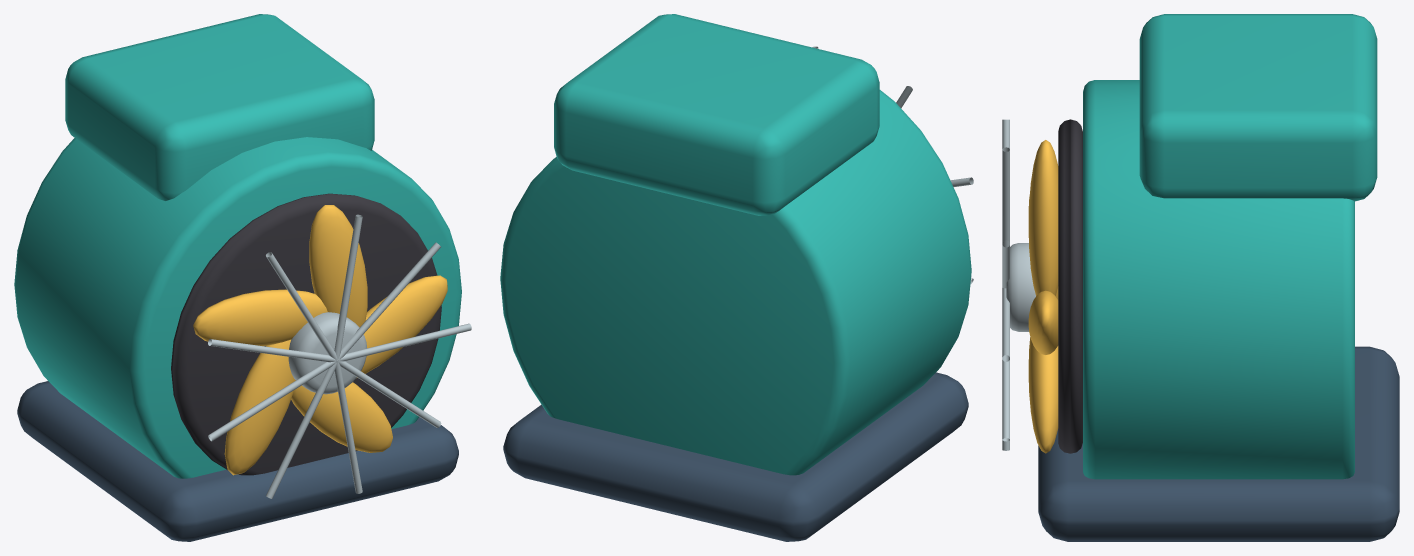
Rendered from fan.glb.
The picture shows the model from 3 angles, left to right: view 1: azimuth 30°, elevation 25°; view 2: azimuth 150°, elevation 25°; view 3: azimuth 270°, elevation 25°; orthographic projection. The views are drawn at different scales.
Parts seen in each view (by area): view 1: Batch Teal enamel, Fan opening, Fan foot, Batch Mustard enamel, Batch Brushed steel; view 2: Batch Teal enamel, Fan foot; view 3: Batch Teal enamel, Fan foot, Batch Mustard enamel, Fan opening, Batch Brushed steel.
Part boxes in pixels (x1,y1,x2,y2): Batch Teal enamel: (14, 14, 461, 478); Fan opening: (171, 193, 441, 475); Fan foot: (17, 381, 458, 541); Batch Mustard enamel: (193, 205, 447, 475); Batch Brushed steel: (208, 214, 471, 498); Batch Teal enamel: (500, 14, 971, 475); Fan foot: (503, 372, 968, 541); Batch Teal enamel: (1083, 14, 1377, 479); Fan foot: (1038, 346, 1399, 541); Batch Mustard enamel: (1028, 140, 1058, 453); Fan opening: (1058, 119, 1082, 453); Batch Brushed steel: (1002, 119, 1035, 450).
Size of the model in its own units: 0.84 by 0.92 by 0.8026.
